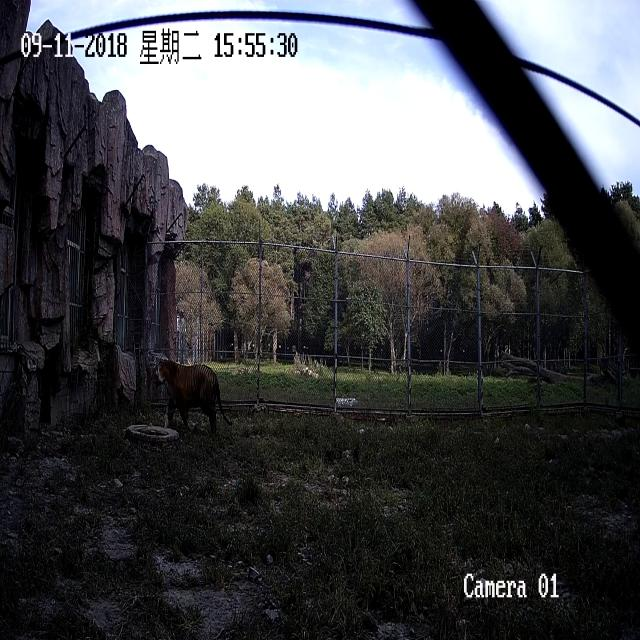Tiger: (150, 346, 248, 461)
